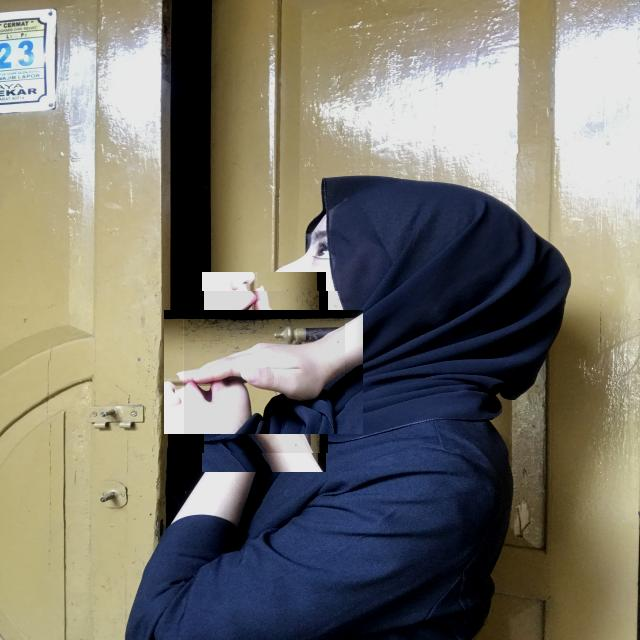ngantuk: (182, 291, 344, 453)
